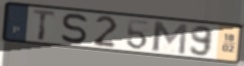2: (92, 14, 120, 49)
5: (125, 18, 151, 51)
9: (189, 25, 215, 57)
M: (151, 20, 190, 56)
S: (59, 12, 90, 45)
T: (31, 8, 57, 42)
